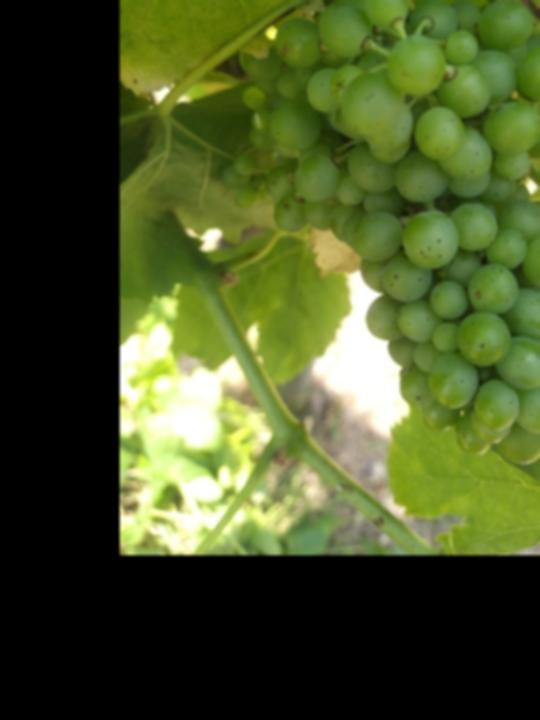grape: (239, 0, 540, 467)
